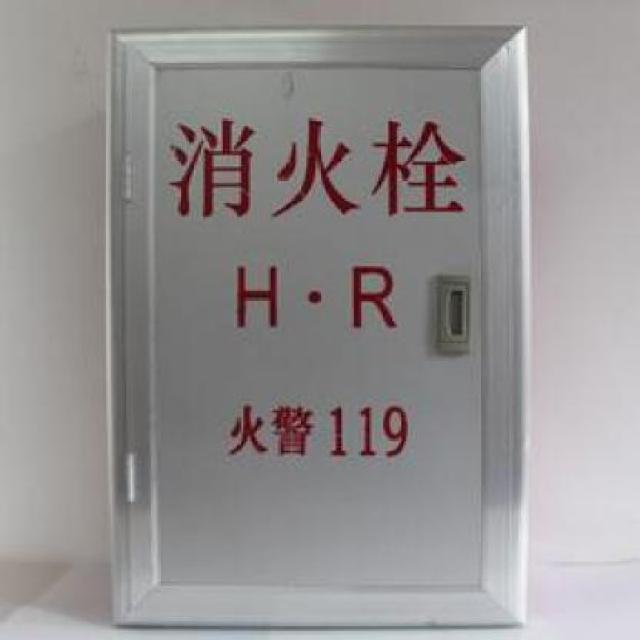firehydrant: (103, 17, 537, 632)
